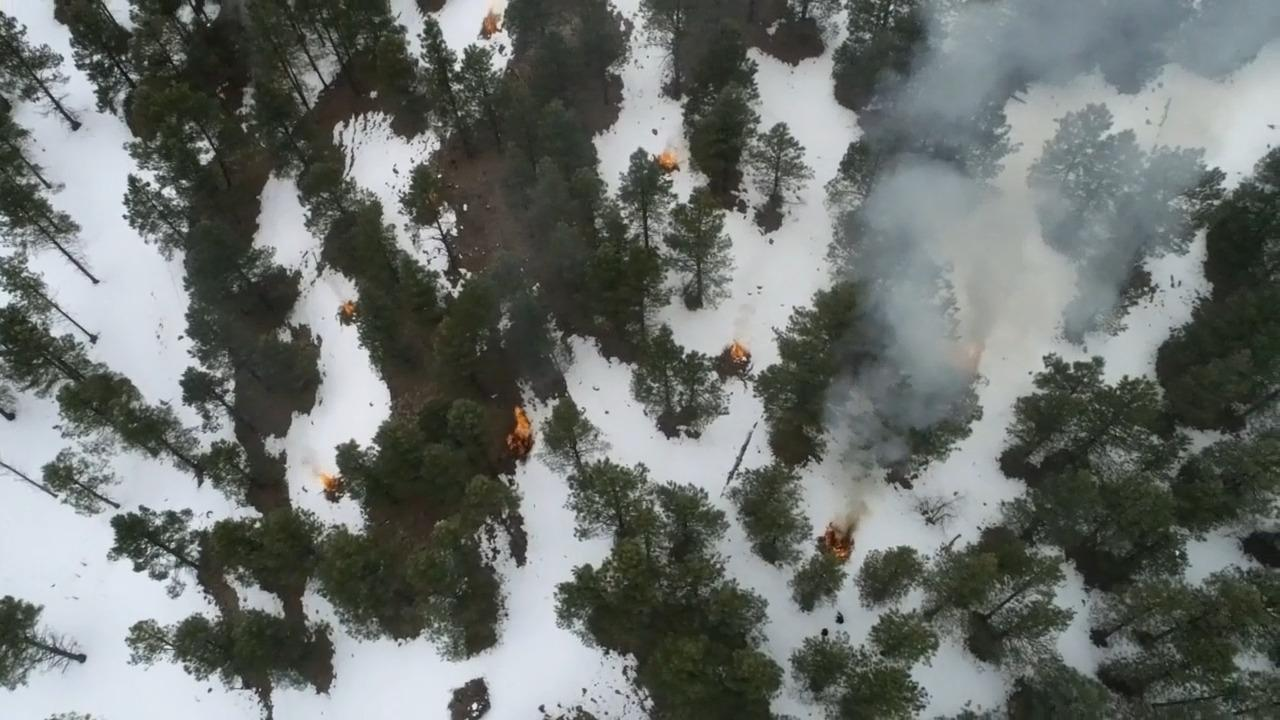fire: (502, 405, 542, 459), (817, 522, 866, 561), (722, 335, 753, 369), (654, 143, 683, 175)
smoke: (873, 0, 1280, 230), (834, 226, 1160, 453)
